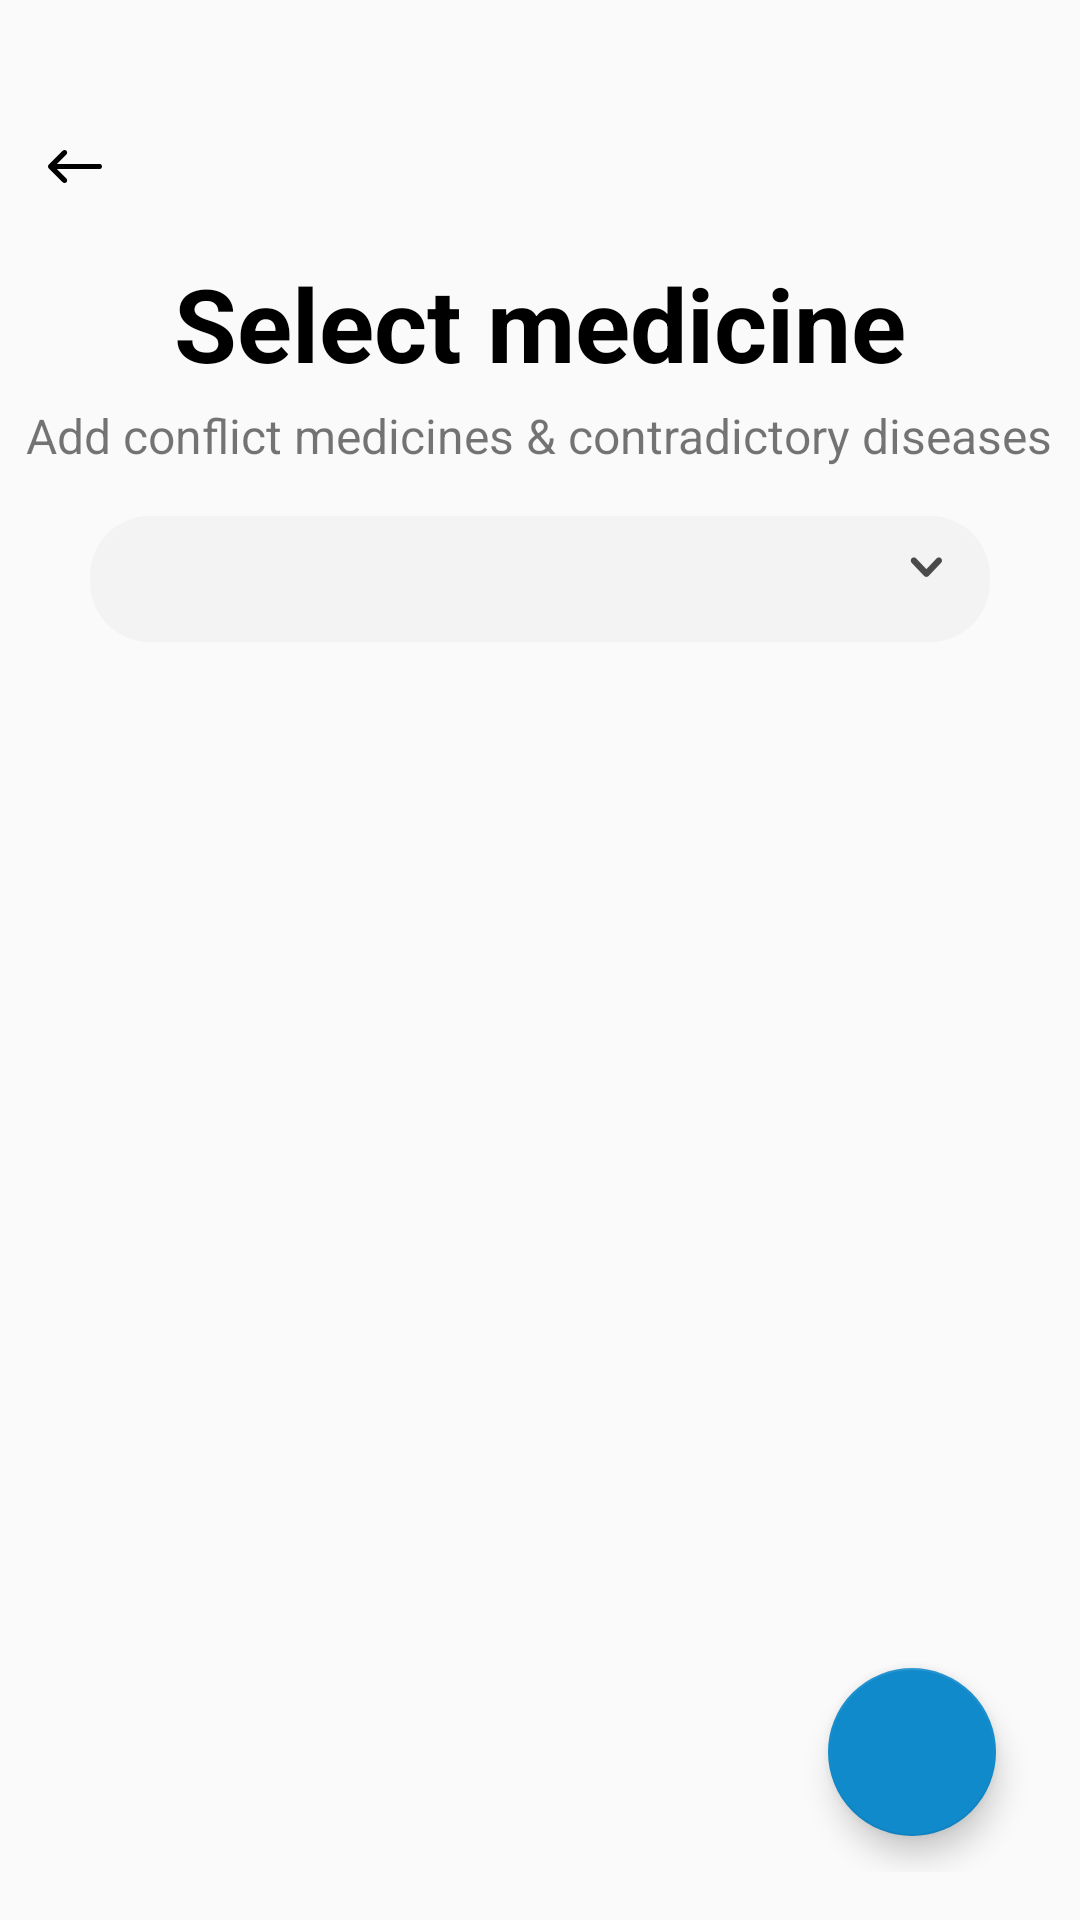

Icons on this 1080×1920 Android screen, each with its box as rect(x1, y1, x2, y2):
back: rect(48, 150, 102, 183)
